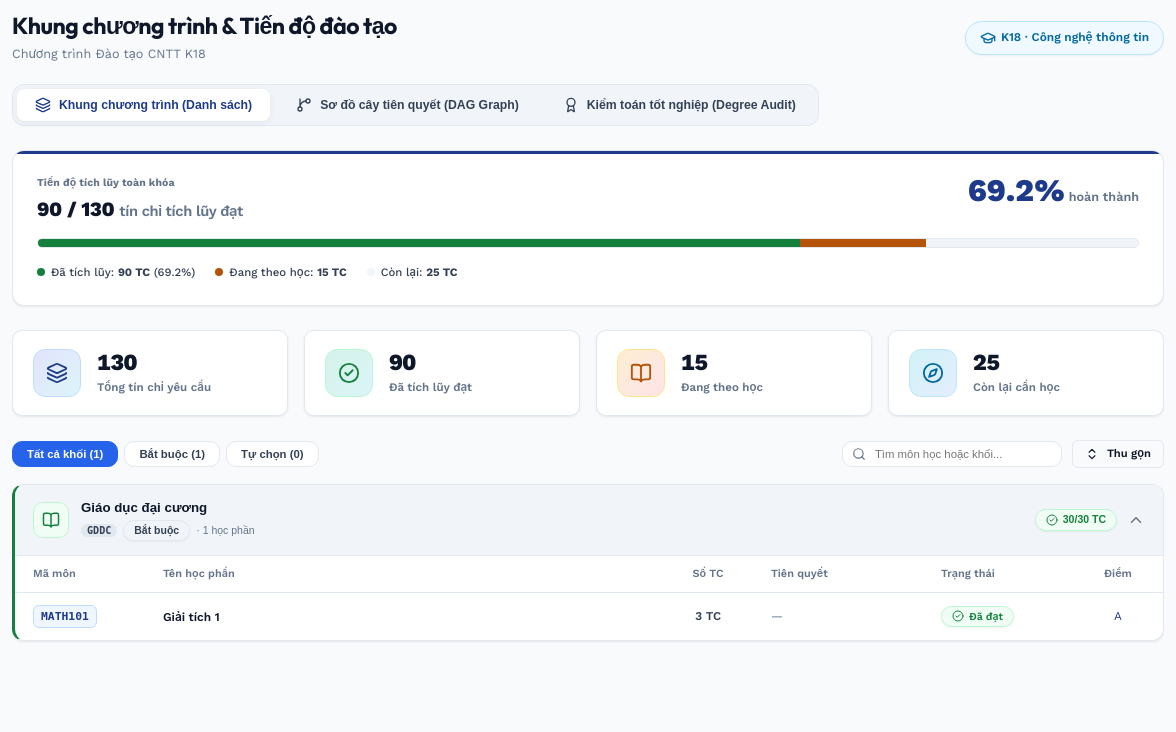
Test: CurriculumRoadmapPage Component › switches to Interactive DAG Graph tab and renders nodes
The image size is (1176, 732).
Expected: the text "Chương trình Đào tạo CNTT K18" is shown, [12,46,206,61]
Click the button "Sơ đồ cây tiên quyết (DAG Graph)" at x=408, y=105, box [278,89,537,121]
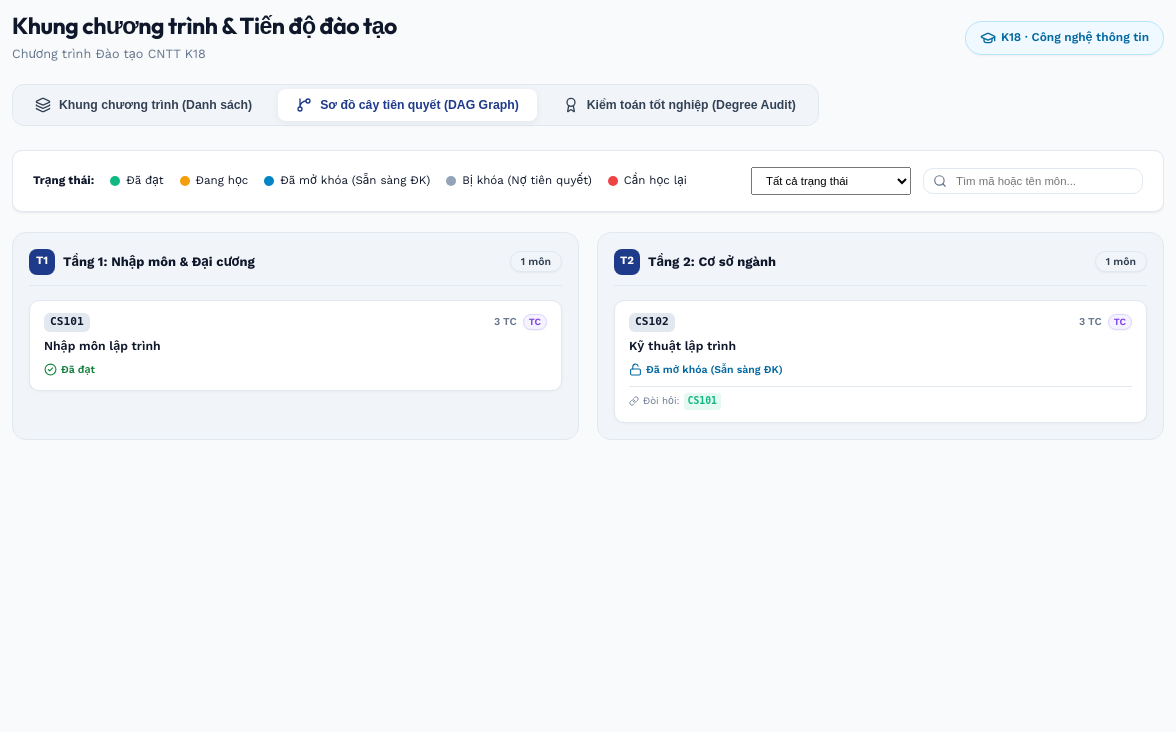
Expected: the text "Tầng 1: Nhập môn & Đại cương" is shown, [63,252,255,271]
Expected: the text "Nhập môn lập trình" is shown, [44,338,161,352]
Expected: the text "Kỹ thuật lập trình" is shown, [629,338,736,352]
